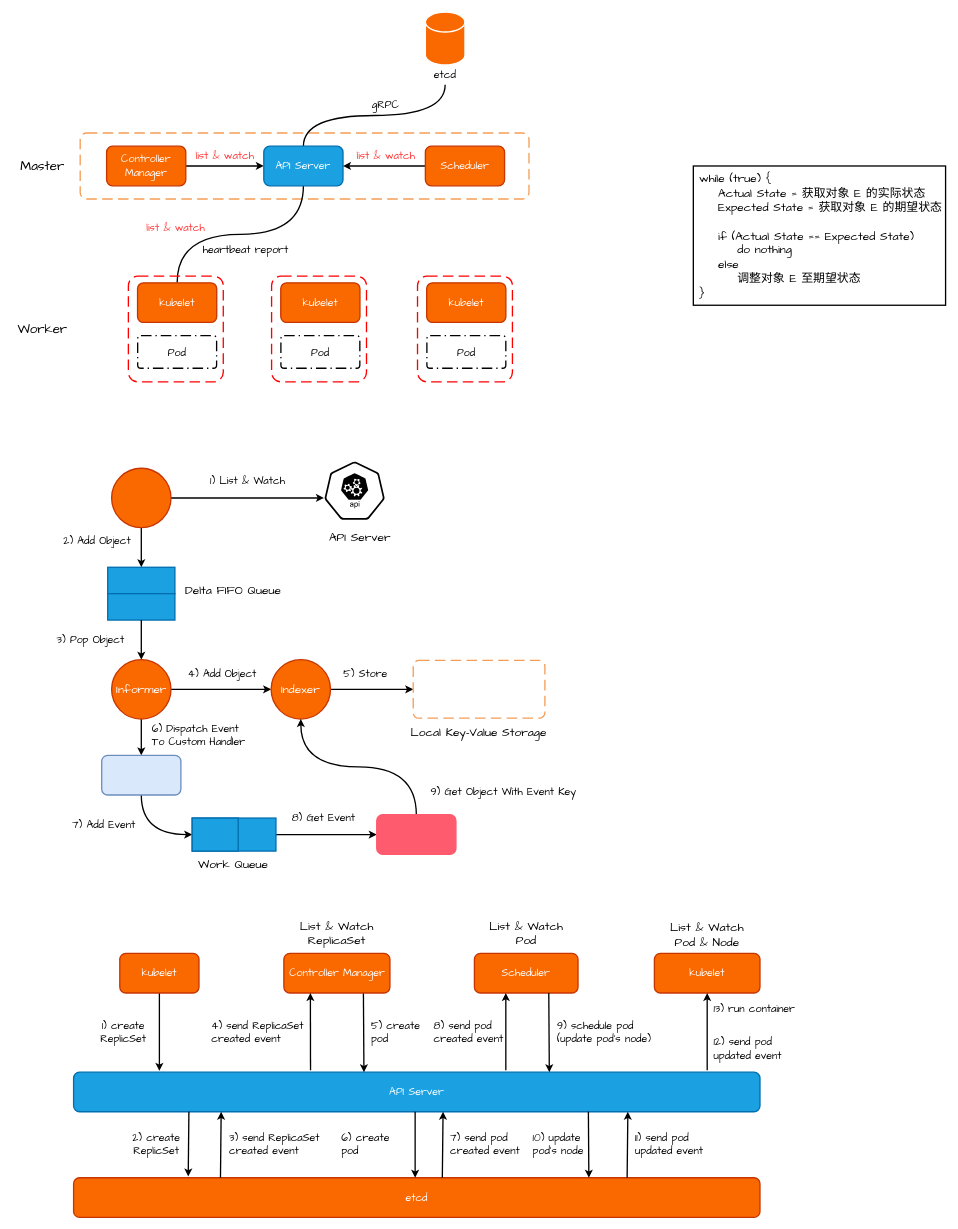
This 958x1229 diagram has some shape labels left out. Each missing label, with the centre of its shape:
Custom Handler: point (141, 774)
Processor: point (416, 834)
Reflector: point (141, 497)
